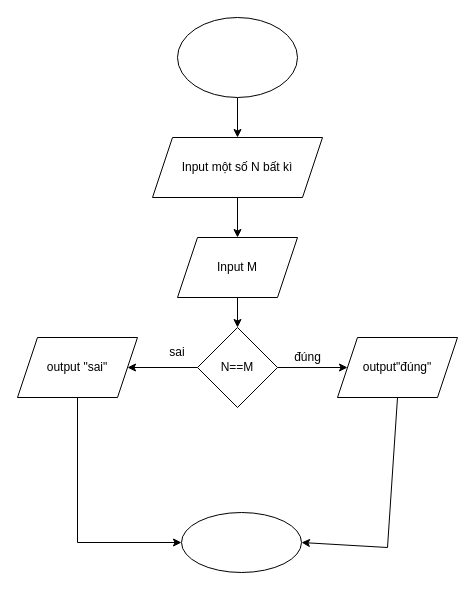
Some shapes in this 475 by 590 pixel diagram are drawn without their labels. The shapes that lost their labels are listed below. From the top down, each one's centre as x and y in pixels, then its label:
At point (237, 57): "begin".
At point (241, 542): "End".
